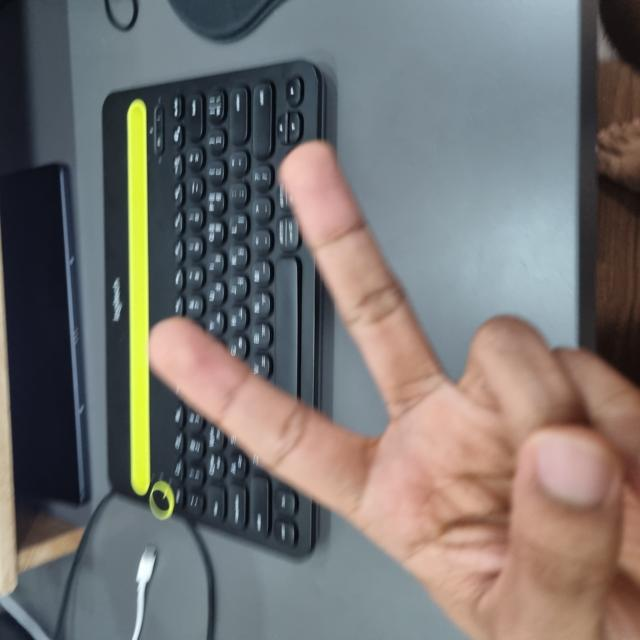Scissors: (3, 158, 492, 640)
